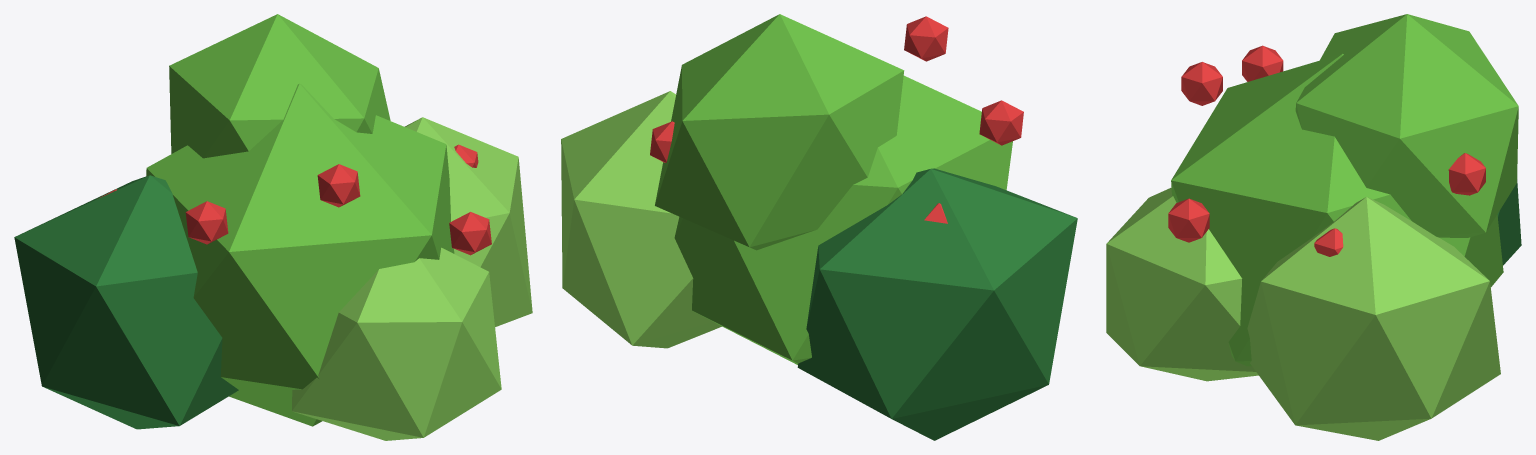
File: Bush.fbx
The picture shows the model from 3 angles, left to right: view 1: azimuth 30°, elevation 25°; view 2: azimuth 150°, elevation 25°; view 3: azimuth 270°, elevation 25°; orthographic projection. The views are drawn at different scales.
Visible parts, largest first — view 1: Bush; view 2: Bush; view 3: Bush.
Part boxes in pixels (bbox=[...]): Bush: bbox=[14, 14, 532, 440]; Bush: bbox=[561, 14, 1077, 440]; Bush: bbox=[1106, 14, 1521, 440].
Size of the model in its own units: 4.76 by 3.67 by 3.57.
1 material, 1 textured.
